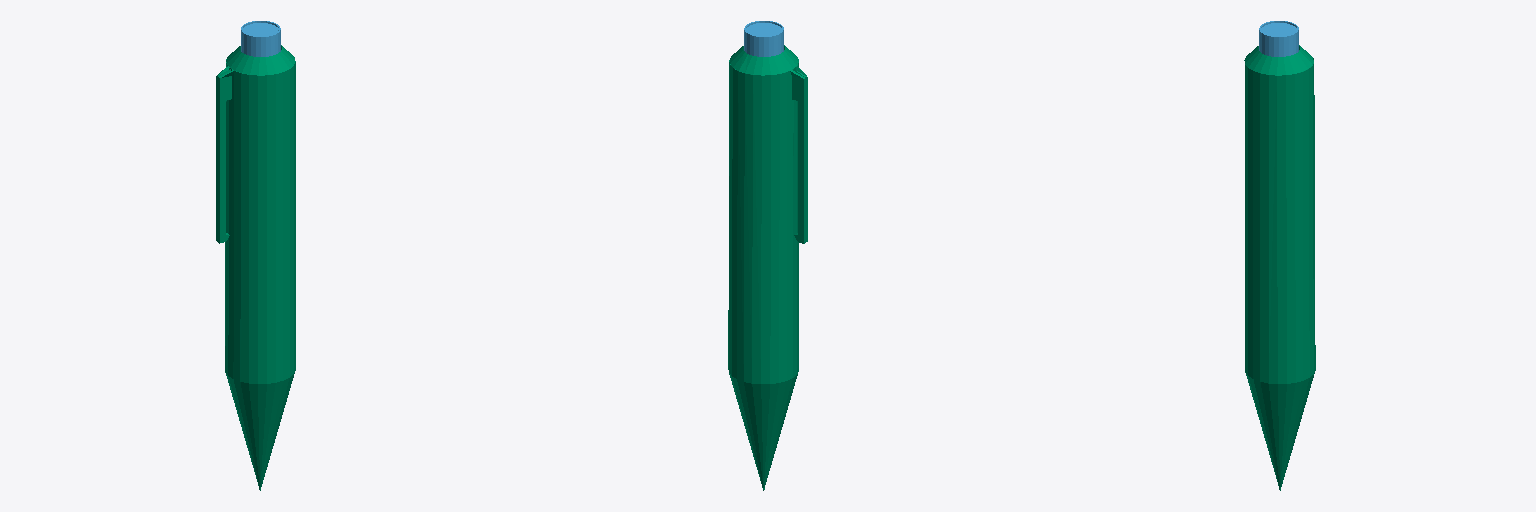
URDF robot description (partnet_321e878c190778d7105b74429aafb0c8):
<?xml version="1.0" ?>
<robot name="partnet_321e878c190778d7105b74429aafb0c8">
	<link name="base"/>
	<link name="link_0">
		<visual name="button-1">
			<origin xyz="0 0 0"/>
			<geometry>
				<mesh filename="textured_objs/original-11.obj"/>
			</geometry>
		</visual>
		<visual name="button-1">
			<origin xyz="0 0 0"/>
			<geometry>
				<mesh filename="textured_objs/original-13.obj"/>
			</geometry>
		</visual>
		<collision>
			<origin xyz="0 0 0"/>
			<geometry>
				<mesh filename="textured_objs/original-11.obj"/>
			</geometry>
		</collision>
		<collision>
			<origin xyz="0 0 0"/>
			<geometry>
				<mesh filename="textured_objs/original-13.obj"/>
			</geometry>
		</collision>
	</link>
	<joint name="joint_0" type="prismatic">
		<origin xyz="0 0 0"/>
		<axis xyz="0 -1 0"/>
		<child link="link_0"/>
		<parent link="link_1"/>
		<limit lower="-0.04800000000000004" upper="0.07600000000000007"/>
	</joint>
	<link name="link_1">
		<visual name="base_body-2">
			<origin xyz="0 0 0"/>
			<geometry>
				<mesh filename="textured_objs/original-4.obj"/>
			</geometry>
		</visual>
		<visual name="base_body-2">
			<origin xyz="0 0 0"/>
			<geometry>
				<mesh filename="textured_objs/original-2.obj"/>
			</geometry>
		</visual>
		<visual name="base_body-2">
			<origin xyz="0 0 0"/>
			<geometry>
				<mesh filename="textured_objs/original-8.obj"/>
			</geometry>
		</visual>
		<visual name="base_body-2">
			<origin xyz="0 0 0"/>
			<geometry>
				<mesh filename="textured_objs/original-9.obj"/>
			</geometry>
		</visual>
		<visual name="base_body-2">
			<origin xyz="0 0 0"/>
			<geometry>
				<mesh filename="textured_objs/original-5.obj"/>
			</geometry>
		</visual>
		<visual name="base_body-2">
			<origin xyz="0 0 0"/>
			<geometry>
				<mesh filename="textured_objs/original-6.obj"/>
			</geometry>
		</visual>
		<visual name="base_body-2">
			<origin xyz="0 0 0"/>
			<geometry>
				<mesh filename="textured_objs/original-15.obj"/>
			</geometry>
		</visual>
		<visual name="base_body-2">
			<origin xyz="0 0 0"/>
			<geometry>
				<mesh filename="textured_objs/original-12.obj"/>
			</geometry>
		</visual>
		<visual name="base_body-2">
			<origin xyz="0 0 0"/>
			<geometry>
				<mesh filename="textured_objs/original-7.obj"/>
			</geometry>
		</visual>
		<visual name="base_body-2">
			<origin xyz="0 0 0"/>
			<geometry>
				<mesh filename="textured_objs/original-10.obj"/>
			</geometry>
		</visual>
		<visual name="base_body-2">
			<origin xyz="0 0 0"/>
			<geometry>
				<mesh filename="textured_objs/original-14.obj"/>
			</geometry>
		</visual>
		<collision>
			<origin xyz="0 0 0"/>
			<geometry>
				<mesh filename="textured_objs/original-4.obj"/>
			</geometry>
		</collision>
		<collision>
			<origin xyz="0 0 0"/>
			<geometry>
				<mesh filename="textured_objs/original-2.obj"/>
			</geometry>
		</collision>
		<collision>
			<origin xyz="0 0 0"/>
			<geometry>
				<mesh filename="textured_objs/original-8.obj"/>
			</geometry>
		</collision>
		<collision>
			<origin xyz="0 0 0"/>
			<geometry>
				<mesh filename="textured_objs/original-9.obj"/>
			</geometry>
		</collision>
		<collision>
			<origin xyz="0 0 0"/>
			<geometry>
				<mesh filename="textured_objs/original-5.obj"/>
			</geometry>
		</collision>
		<collision>
			<origin xyz="0 0 0"/>
			<geometry>
				<mesh filename="textured_objs/original-6.obj"/>
			</geometry>
		</collision>
		<collision>
			<origin xyz="0 0 0"/>
			<geometry>
				<mesh filename="textured_objs/original-15.obj"/>
			</geometry>
		</collision>
		<collision>
			<origin xyz="0 0 0"/>
			<geometry>
				<mesh filename="textured_objs/original-12.obj"/>
			</geometry>
		</collision>
		<collision>
			<origin xyz="0 0 0"/>
			<geometry>
				<mesh filename="textured_objs/original-7.obj"/>
			</geometry>
		</collision>
		<collision>
			<origin xyz="0 0 0"/>
			<geometry>
				<mesh filename="textured_objs/original-10.obj"/>
			</geometry>
		</collision>
		<collision>
			<origin xyz="0 0 0"/>
			<geometry>
				<mesh filename="textured_objs/original-14.obj"/>
			</geometry>
		</collision>
	</link>
	<joint name="joint_1" type="fixed">
		<origin rpy="1.570796326794897 0 -1.570796326794897" xyz="0 0 0"/>
		<child link="link_1"/>
		<parent link="base"/>
	</joint>
</robot>

--- What the picture shows (computed from the rendered views, not written in the file) ---
The picture shows the robot from 3 angles, left to right: view 1: azimuth 30°, elevation 25°; view 2: azimuth 150°, elevation 25°; view 3: azimuth 270°, elevation 25°; orthographic projection.
Robot: partnet_321e878c190778d7105b74429aafb0c8 — 3 links, 2 joints (1 prismatic, 1 fixed); root link base; default pose: every joint at zero.
Visible links, largest first — view 1: link_1, link_0; view 2: link_1, link_0; view 3: link_1, link_0.
Link boxes in pixels (x1,y1,x2,y2): link_1: [216, 45, 295, 490]; link_0: [241, 21, 280, 56]; link_1: [728, 45, 807, 490]; link_0: [744, 21, 783, 56]; link_1: [1244, 45, 1315, 490]; link_0: [1259, 21, 1298, 56].
Bounding box of the posed robot: 0.3094 × 0.2614 × 1.87 m (x, y, z).
Meshes: 13 distinct files referenced, 13 mesh visuals loaded (13 OBJ).
